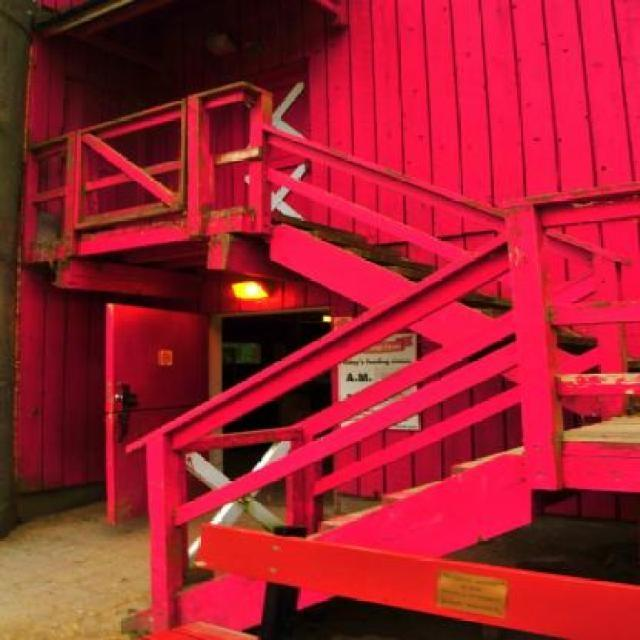stair: (122, 417, 628, 640), (243, 208, 639, 417)
